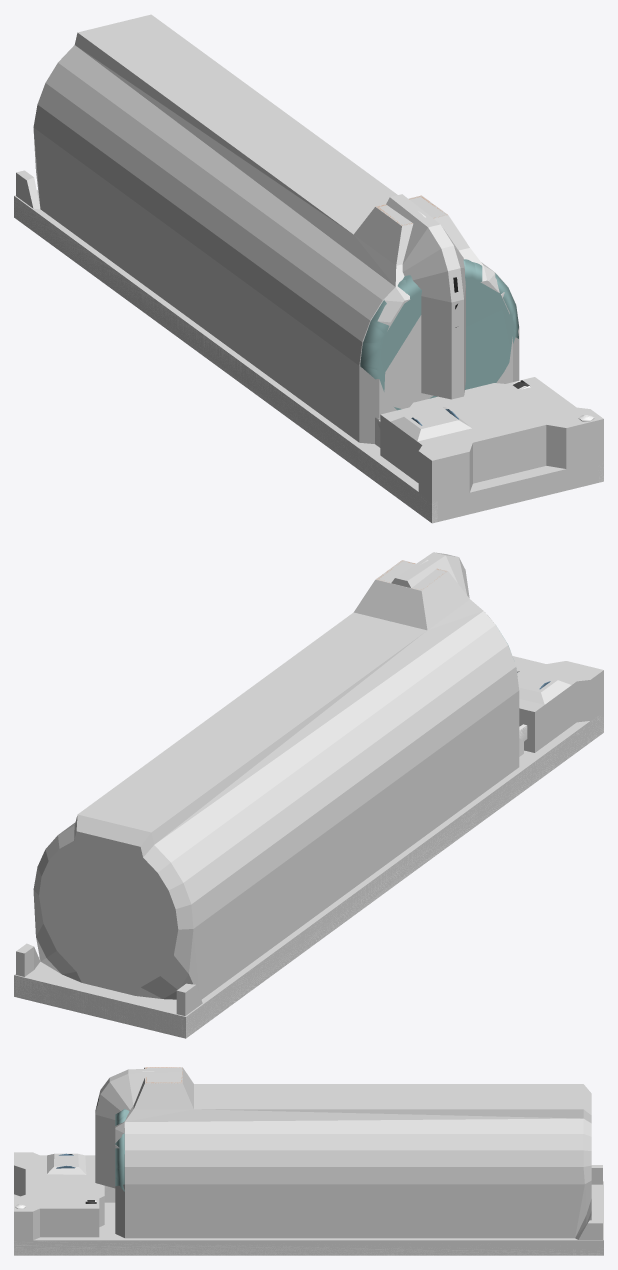
Rendered from s_quarry_watertank_01.dae.
The picture shows the model from 3 angles, top to bottom: view 1: azimuth 30°, elevation 25°; view 2: azimuth 150°, elevation 25°; view 3: azimuth 270°, elevation 25°; orthographic projection. The views are drawn at different scales.
Parts seen in each view (by area): view 1: Colmesh-1, waterTank1_a200, waterTank1_a75; view 2: Colmesh-1, waterTank1_a200, waterTank1_a75; view 3: Colmesh-1, waterTank1_a200, waterTank1_a75.
Part boxes in pixels (bbox=[...]): Colmesh-1: bbox=[14, 14, 603, 523]; waterTank1_a200: bbox=[14, 195, 603, 523]; waterTank1_a75: bbox=[360, 211, 603, 522]; Colmesh-1: bbox=[14, 552, 603, 1038]; waterTank1_a200: bbox=[14, 560, 603, 1038]; waterTank1_a75: bbox=[14, 559, 543, 1035]; Colmesh-1: bbox=[14, 1067, 603, 1255]; waterTank1_a200: bbox=[14, 1067, 603, 1255]; waterTank1_a75: bbox=[19, 1071, 153, 1205].
Size of the model in its own units: 2.35 by 9.91 by 2.88.
